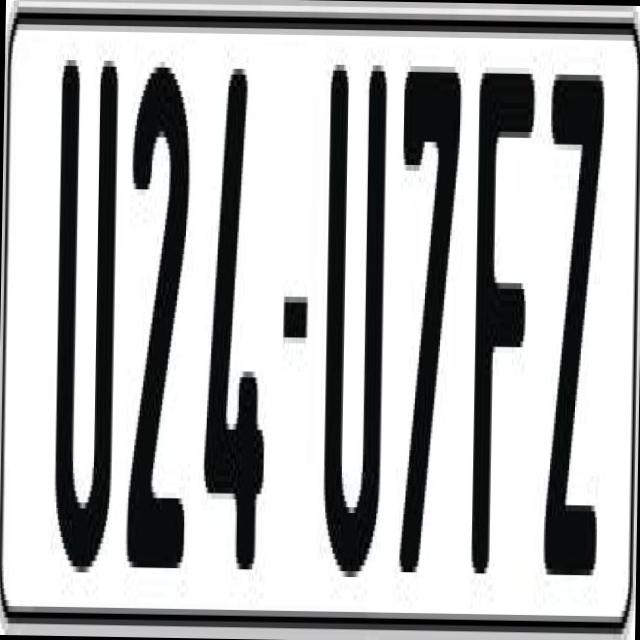2: (122, 66, 196, 568)
4: (200, 50, 275, 581)
7: (394, 60, 468, 584)
F: (470, 55, 542, 586)
U: (318, 46, 392, 578), (48, 41, 115, 578)
Z: (538, 74, 610, 598)
